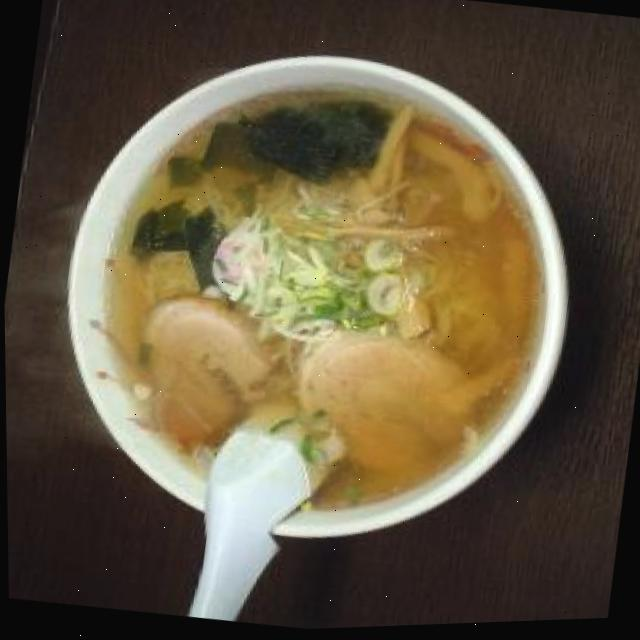面条主食: (21, 11, 610, 595)
